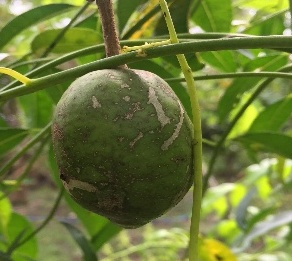Coc: (50, 68, 197, 229)
